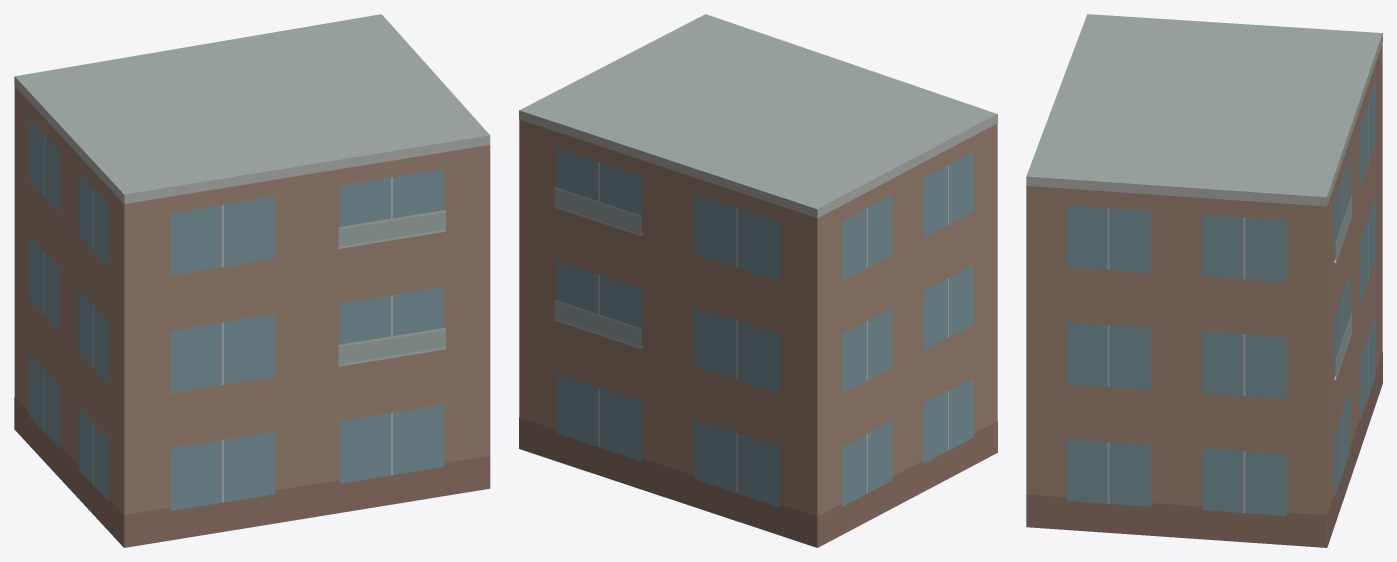
The model's file is survey-upis-32797895.glb.
3 views of the same model, side by side, from view 1: azimuth 30°, elevation 25°; view 2: azimuth 150°, elevation 25°; view 3: azimuth 270°, elevation 25° (orthographic). The views are drawn at different scales.
Parts seen in each view (by area): view 1: survey-upis-32797895.tmp; view 2: survey-upis-32797895.tmp; view 3: survey-upis-32797895.tmp.
Boxes of the visible parts, x1,y1,x2,y2 form: survey-upis-32797895.tmp: (14,14,490,547); survey-upis-32797895.tmp: (519,14,997,547); survey-upis-32797895.tmp: (1026,14,1382,547).
Size of the model in its own units: 10.27 by 9.15 by 8.44.
